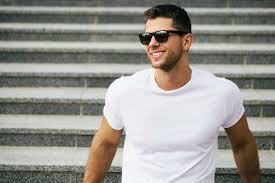Tshirt: (102, 66, 247, 183)
